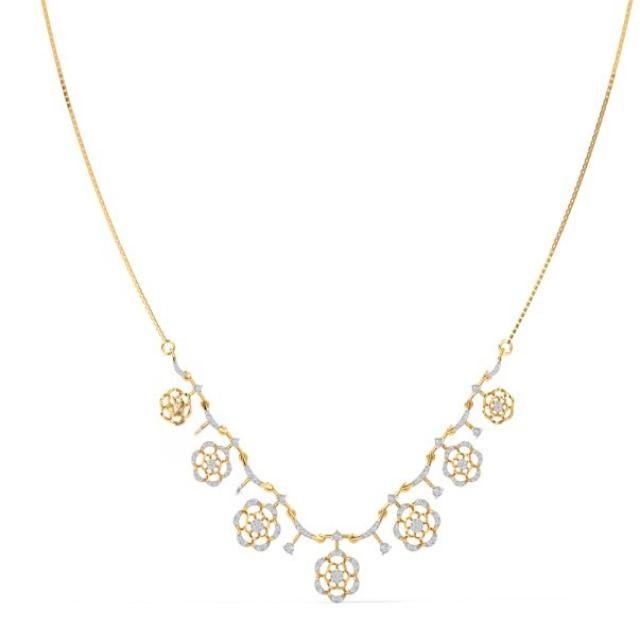missing gem: (188, 426, 203, 442), (229, 482, 242, 497), (172, 399, 183, 410)
